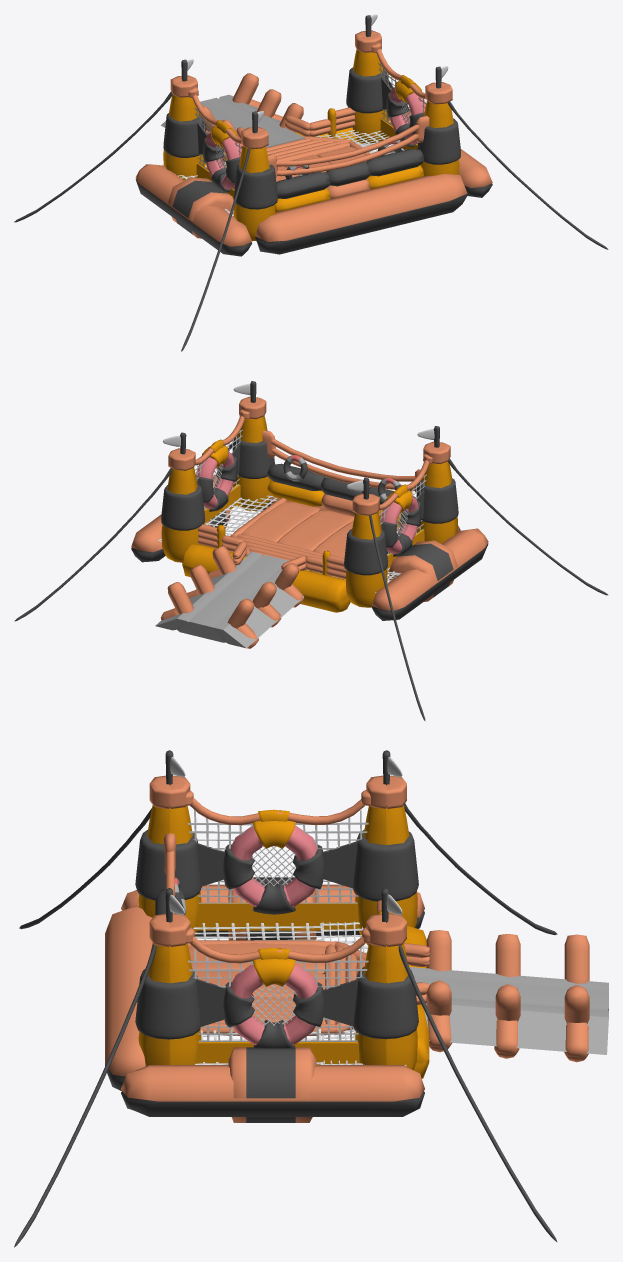
File: CastoilloInicio.fbx
The picture shows the model from 3 angles, top to bottom: view 1: azimuth 30°, elevation 25°; view 2: azimuth 150°, elevation 25°; view 3: azimuth 270°, elevation 25°; orthographic projection. The views are drawn at different scales.
Visible parts, largest first — view 1: pCube259, pCube13, pCube209, pCube171, pCube275, pCube276, pCube165, pCube277, pCube5, pCube239, pCube2, pCube173 (+18 smaller); view 2: pCube209, pCube13, pCube171, pCube167, pCube2, pCube248, pCube165, pCube250, pCube277, pCube239, pCube158, pCube275 (+25 smaller); view 3: pCube173, pCube209, pCube259, pCube172, pCube260, pCube239, pCube277, pCube276, pCube165, pCube158, pCube275, pTorus2 (+46 smaller).
Part boxes in pixels (x1=…): pCube259: x1=255, y1=174, x2=467, y2=254; pCube13: x1=135, y1=164, x2=252, y2=256; pCube209: x1=161, y1=94, x2=305, y2=147; pCube171: x1=168, y1=177, x2=233, y2=238; pCube275: x1=234, y1=164, x2=277, y2=209; pCube276: x1=417, y1=118, x2=460, y2=164; pCube165: x1=347, y1=49, x2=388, y2=143; pCube277: x1=346, y1=67, x2=387, y2=113; pCube5: x1=234, y1=146, x2=275, y2=240; pCube239: x1=163, y1=112, x2=205, y2=157; pCube2: x1=163, y1=95, x2=204, y2=180; pCube173: x1=389, y1=110, x2=492, y2=197; pCube209: x1=155, y1=551, x2=303, y2=648; pCube13: x1=372, y1=528, x2=488, y2=620; pCube171: x1=388, y1=540, x2=457, y2=601; pCube167: x1=292, y1=569, x2=350, y2=612; pCube2: x1=345, y1=512, x2=387, y2=607; pCube248: x1=277, y1=509, x2=354, y2=551; pCube165: x1=161, y1=467, x2=199, y2=562; pCube250: x1=242, y1=501, x2=320, y2=542; pCube277: x1=161, y1=484, x2=205, y2=530; pCube239: x1=344, y1=529, x2=387, y2=575; pCube158: x1=233, y1=416, x2=271, y2=511; pCube275: x1=417, y1=478, x2=458, y2=523; pCube173: x1=121, y1=1065, x2=424, y2=1116; pCube209: x1=409, y1=967, x2=608, y2=1054; pCube259: x1=105, y1=905, x2=152, y2=1090; pCube172: x1=228, y1=1047, x2=316, y2=1122; pCube260: x1=196, y1=902, x2=359, y2=930; pCube239: x1=353, y1=829, x2=418, y2=901; pCube277: x1=353, y1=966, x2=418, y2=1039; pCube276: x1=135, y1=969, x2=200, y2=1039; pCube165: x1=355, y1=943, x2=417, y2=1069; pCube158: x1=138, y1=943, x2=201, y2=1066; pCube275: x1=135, y1=830, x2=201, y2=900; pTorus2: x1=230, y1=963, x2=317, y2=1045.
Size of the model in its own units: 33.15 by 12.99 by 26.07.
